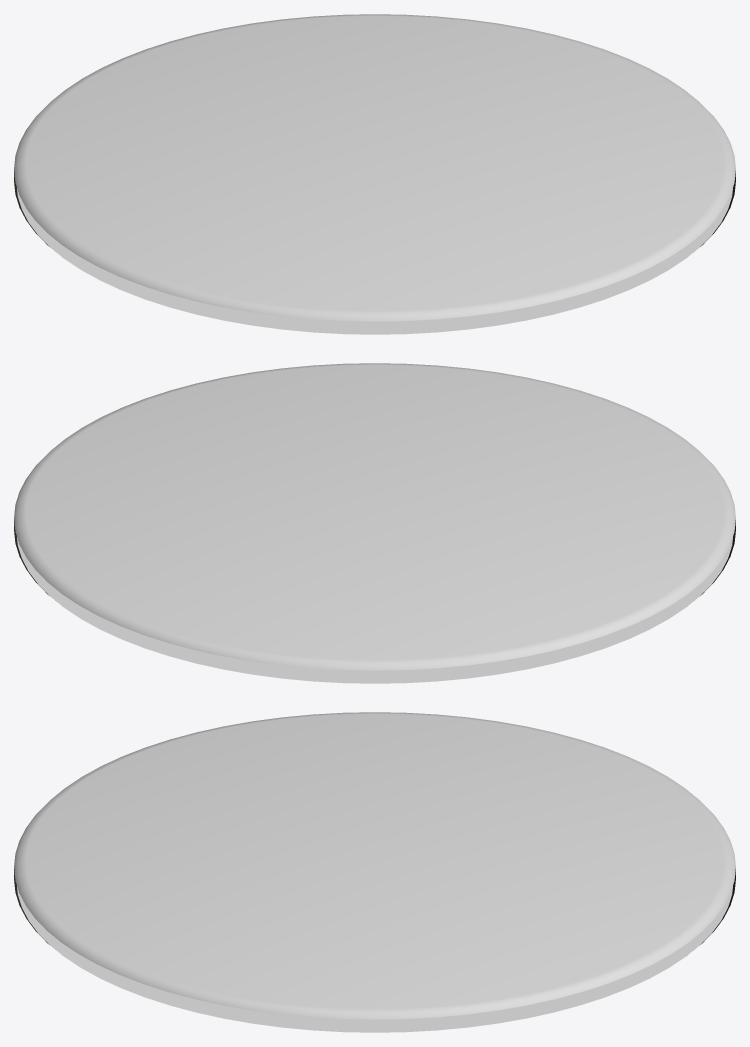
File: Unit_Base.glb
The picture shows the model from 3 angles, top to bottom: view 1: azimuth 30°, elevation 25°; view 2: azimuth 150°, elevation 25°; view 3: azimuth 270°, elevation 25°; orthographic projection.
Visible parts, largest first — view 1: Unit_Base; view 2: Unit_Base; view 3: Unit_Base.
Part boxes in pixels (bbox=[...]): Unit_Base: bbox=[14, 14, 735, 334]; Unit_Base: bbox=[14, 363, 735, 683]; Unit_Base: bbox=[14, 712, 735, 1032].
Bounding box in the file's own units: 6 × 0.18 × 6.
2 materials, 1 textured.
